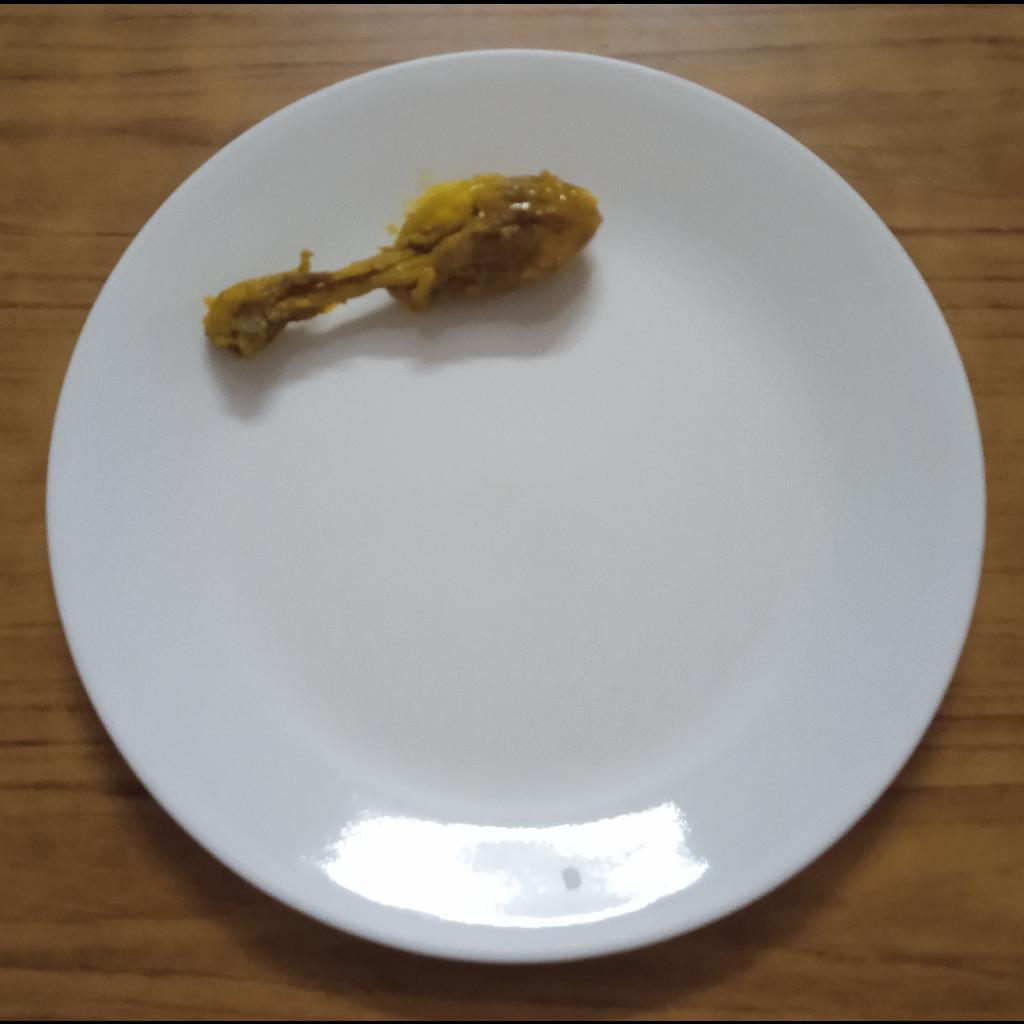chicken: (205, 169, 602, 363)
